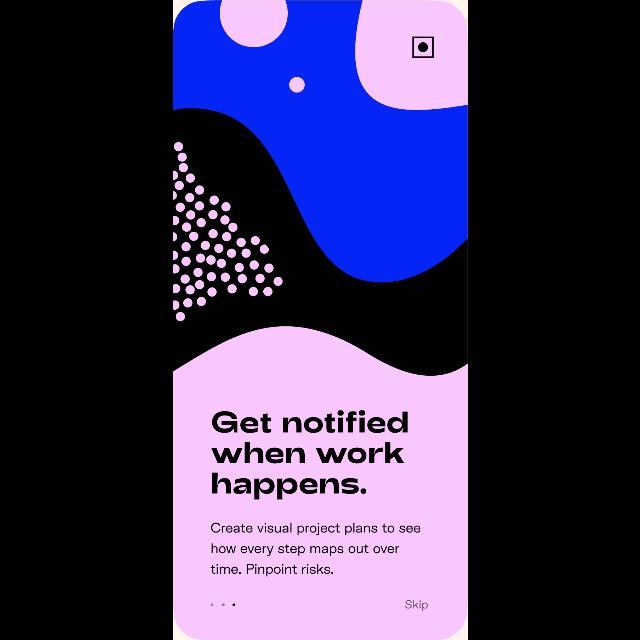backgroundimage: (173, 2, 467, 640)
pageindicator: (210, 603, 234, 607)
text: (210, 410, 408, 500), (210, 522, 420, 578), (404, 600, 428, 610)
